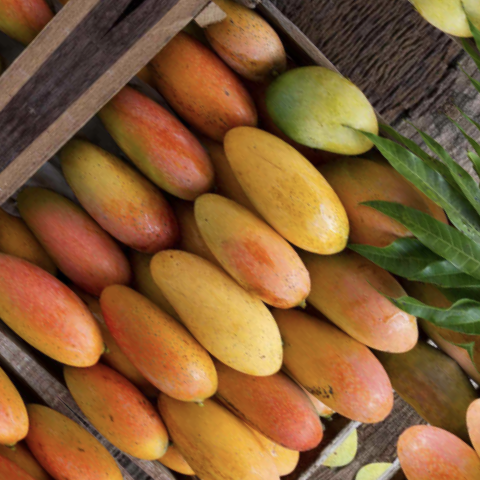mango: (116, 211, 315, 408), (195, 99, 382, 284), (64, 56, 245, 233), (69, 265, 240, 434), (246, 275, 416, 443), (179, 175, 340, 335), (112, 347, 304, 480), (0, 222, 136, 402), (247, 27, 402, 181), (6, 169, 161, 322), (37, 329, 189, 479)
